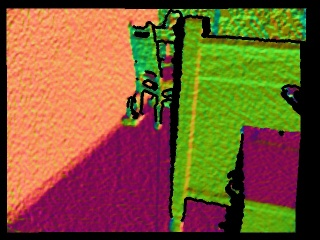station: (122, 94, 140, 126)
